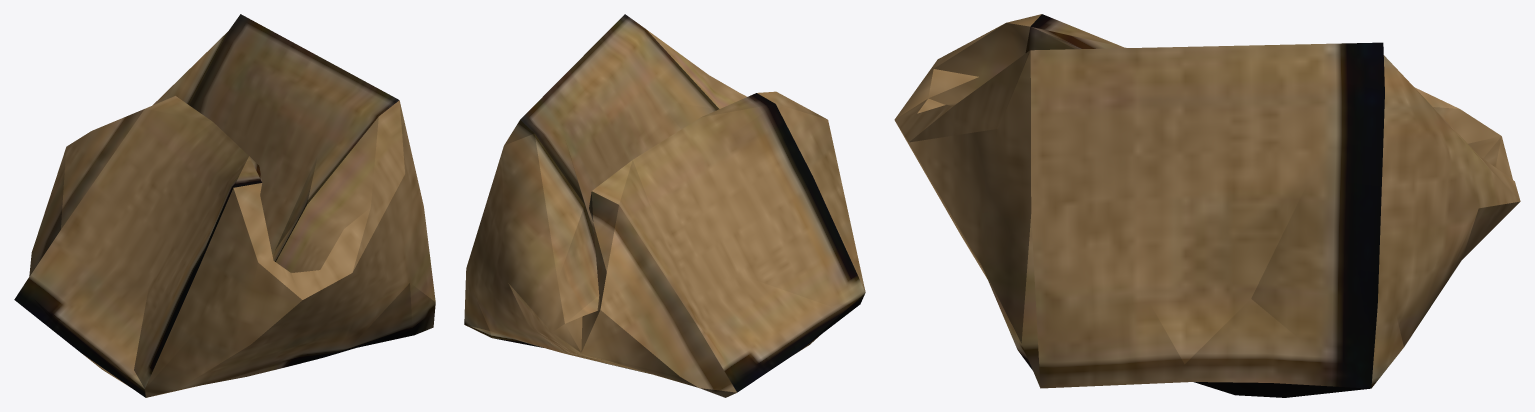
File: box_crushed_side_lod1_web.glb
The picture shows the model from 3 angles, left to right: view 1: azimuth 30°, elevation 25°; view 2: azimuth 150°, elevation 25°; view 3: azimuth 270°, elevation 25°; orthographic projection. The views are drawn at different scales.
Parts seen in each view (by area): view 1: BoxCrushedSide_Body; view 2: BoxCrushedSide_Body; view 3: BoxCrushedSide_Body.
Part boxes in pixels (<box>): BoxCrushedSide_Body: <box>14,14,435,397</box>; BoxCrushedSide_Body: <box>464,14,865,397</box>; BoxCrushedSide_Body: <box>894,14,1520,397</box>.
Size of the model in its own units: 0.3755 by 0.3086 by 0.5294.
Materials: 1 (1 with a texture image).
